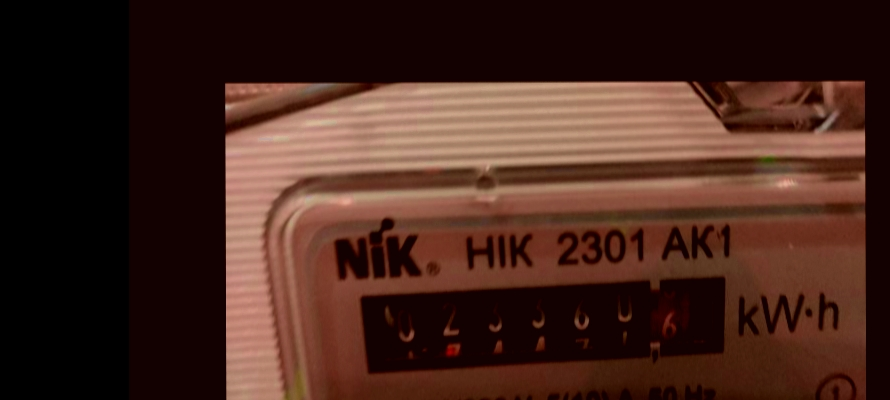0: (392, 304, 417, 346), (612, 288, 635, 325)
2: (436, 298, 462, 338)
3: (525, 293, 547, 332), (483, 296, 504, 336)
6: (567, 293, 593, 334), (659, 307, 680, 343)
screen: (338, 264, 739, 383)
